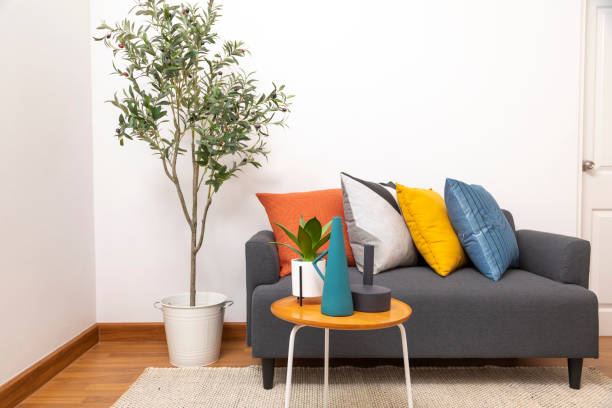large plant: (92, 2, 256, 371)
small plant: (268, 214, 331, 308)
sofa: (245, 172, 604, 390)
table: (270, 290, 418, 408)
